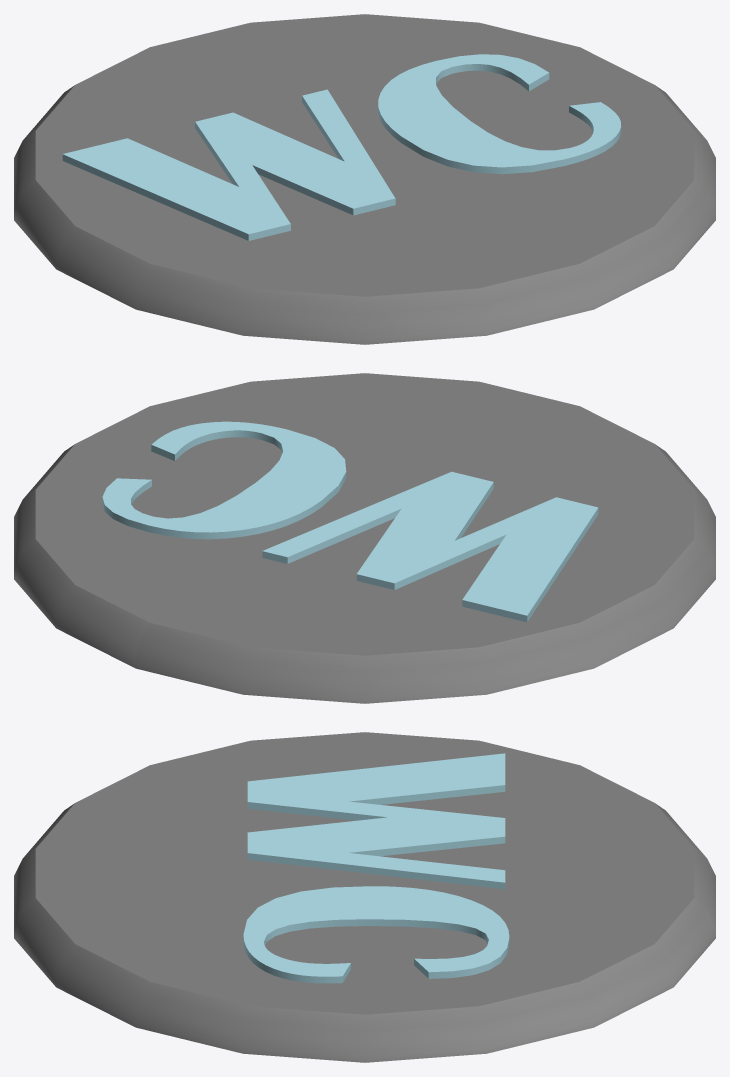
The model's file is WCSign.FBX.
The picture shows the model from 3 angles, top to bottom: view 1: azimuth 30°, elevation 25°; view 2: azimuth 150°, elevation 25°; view 3: azimuth 270°, elevation 25°; orthographic projection.
Parts seen in each view (by area): view 1: WC_sign; view 2: WC_sign; view 3: WC_sign.
Boxes of the visible parts, x1,y1,x2,y2 form: WC_sign: [14, 14, 715, 344]; WC_sign: [14, 373, 715, 703]; WC_sign: [14, 732, 715, 1062].
Size of the model in its own units: 7.87 by 0.5545 by 7.75.
